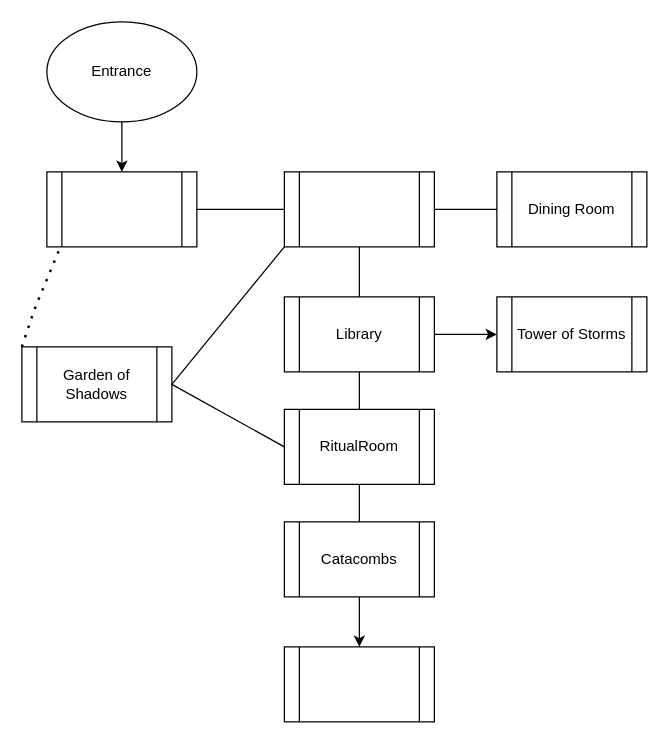
This 670x744 diagram has some shape labels left out. Here are the shapes that lost their labels. From the top down, the centre of each, then its label:
At (x=121, y=209): "Cursed Castle Courtyard".
At (x=358, y=209): "MainHall".
At (x=358, y=684): "Dragoncave".
